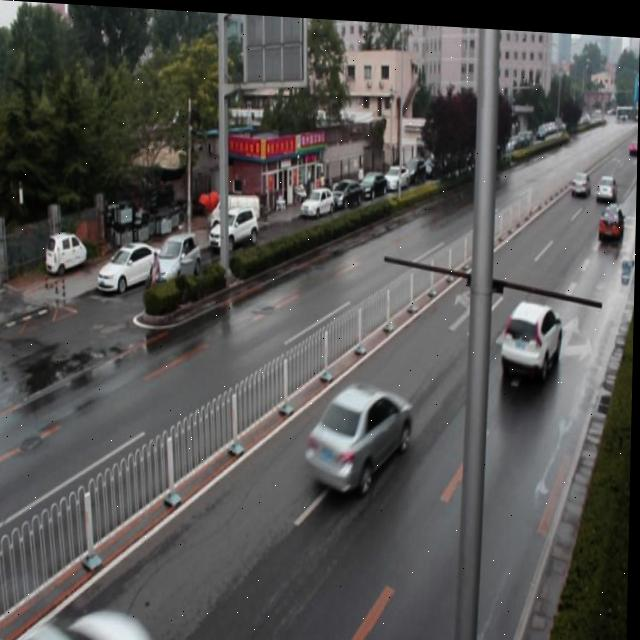car: (308, 381, 410, 493), (499, 287, 562, 374), (596, 194, 625, 236)
